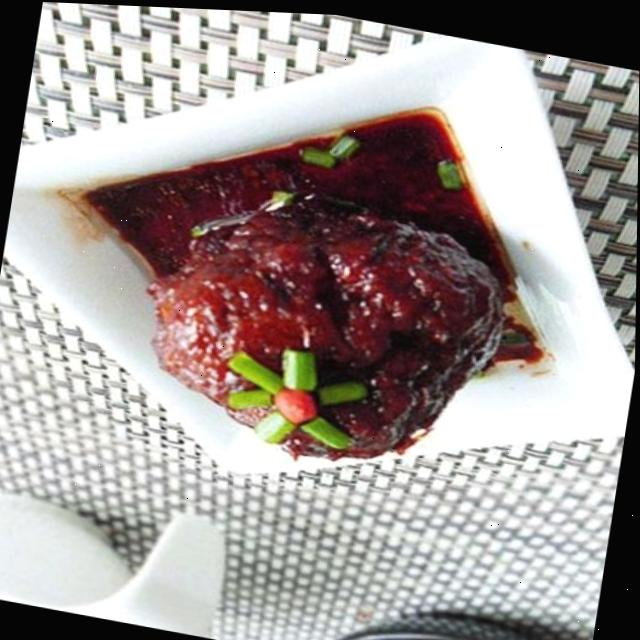猪肉菜式: (66, 38, 588, 543)
